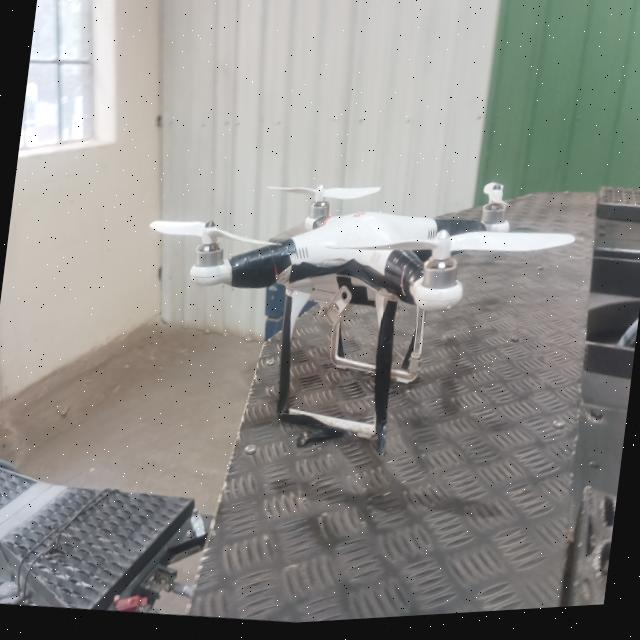drone: (109, 113, 596, 520)
